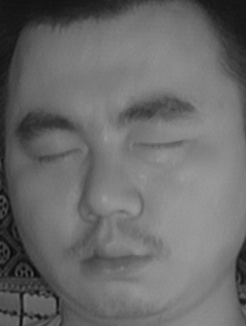blink: (132, 127, 190, 166), (31, 135, 83, 174)
mouth: (67, 231, 157, 287)
